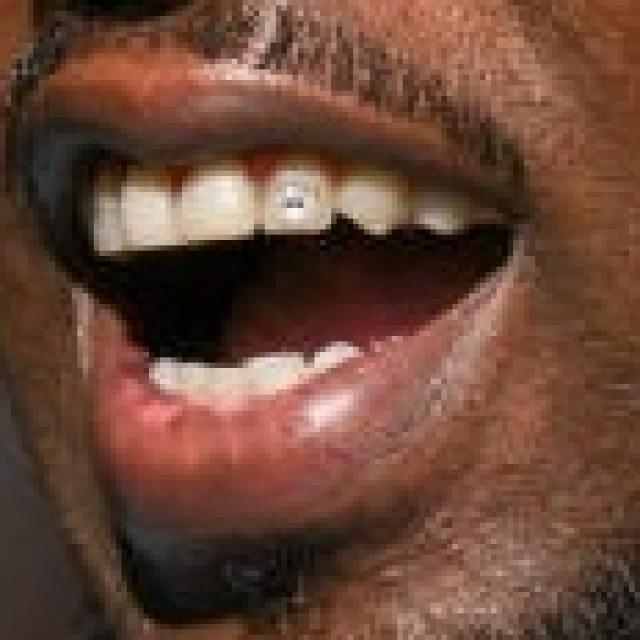open-mouth: (17, 53, 540, 544)
